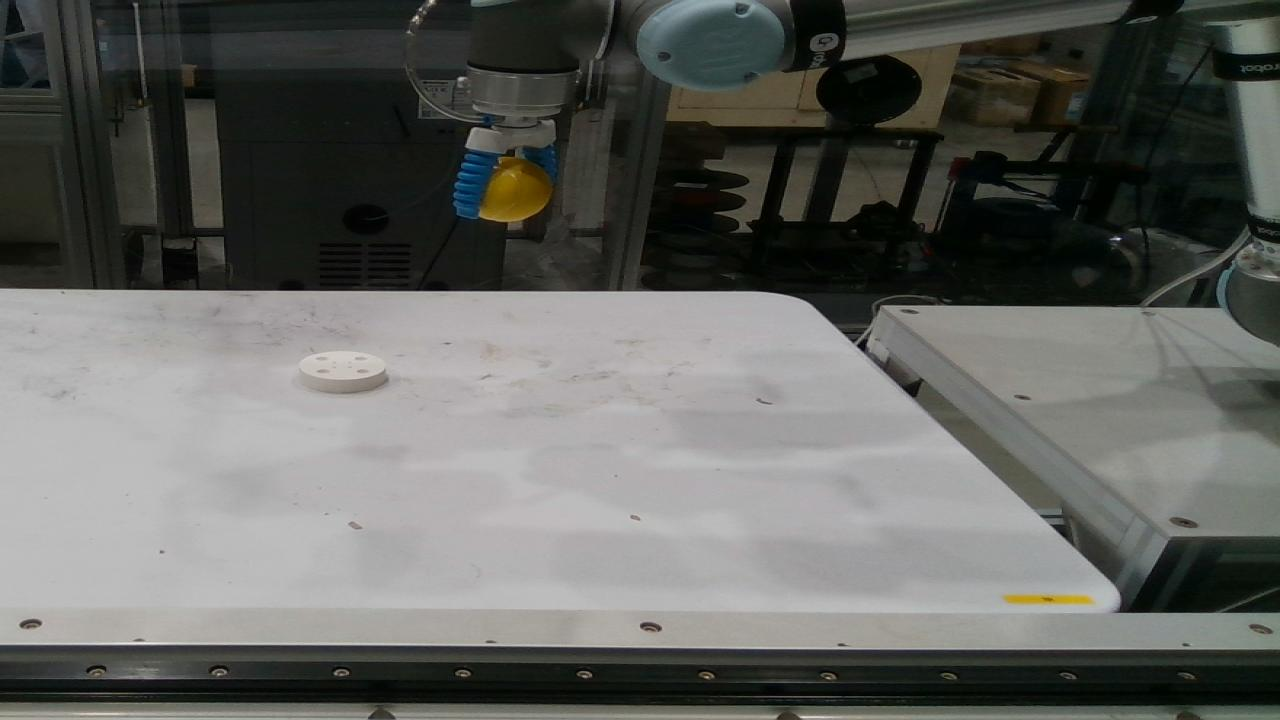UR5: (460, 0, 1279, 344)
gripper_left: (522, 143, 558, 186)
gripper_right: (454, 150, 502, 218)
target: (461, 157, 553, 222), (299, 350, 387, 393)
